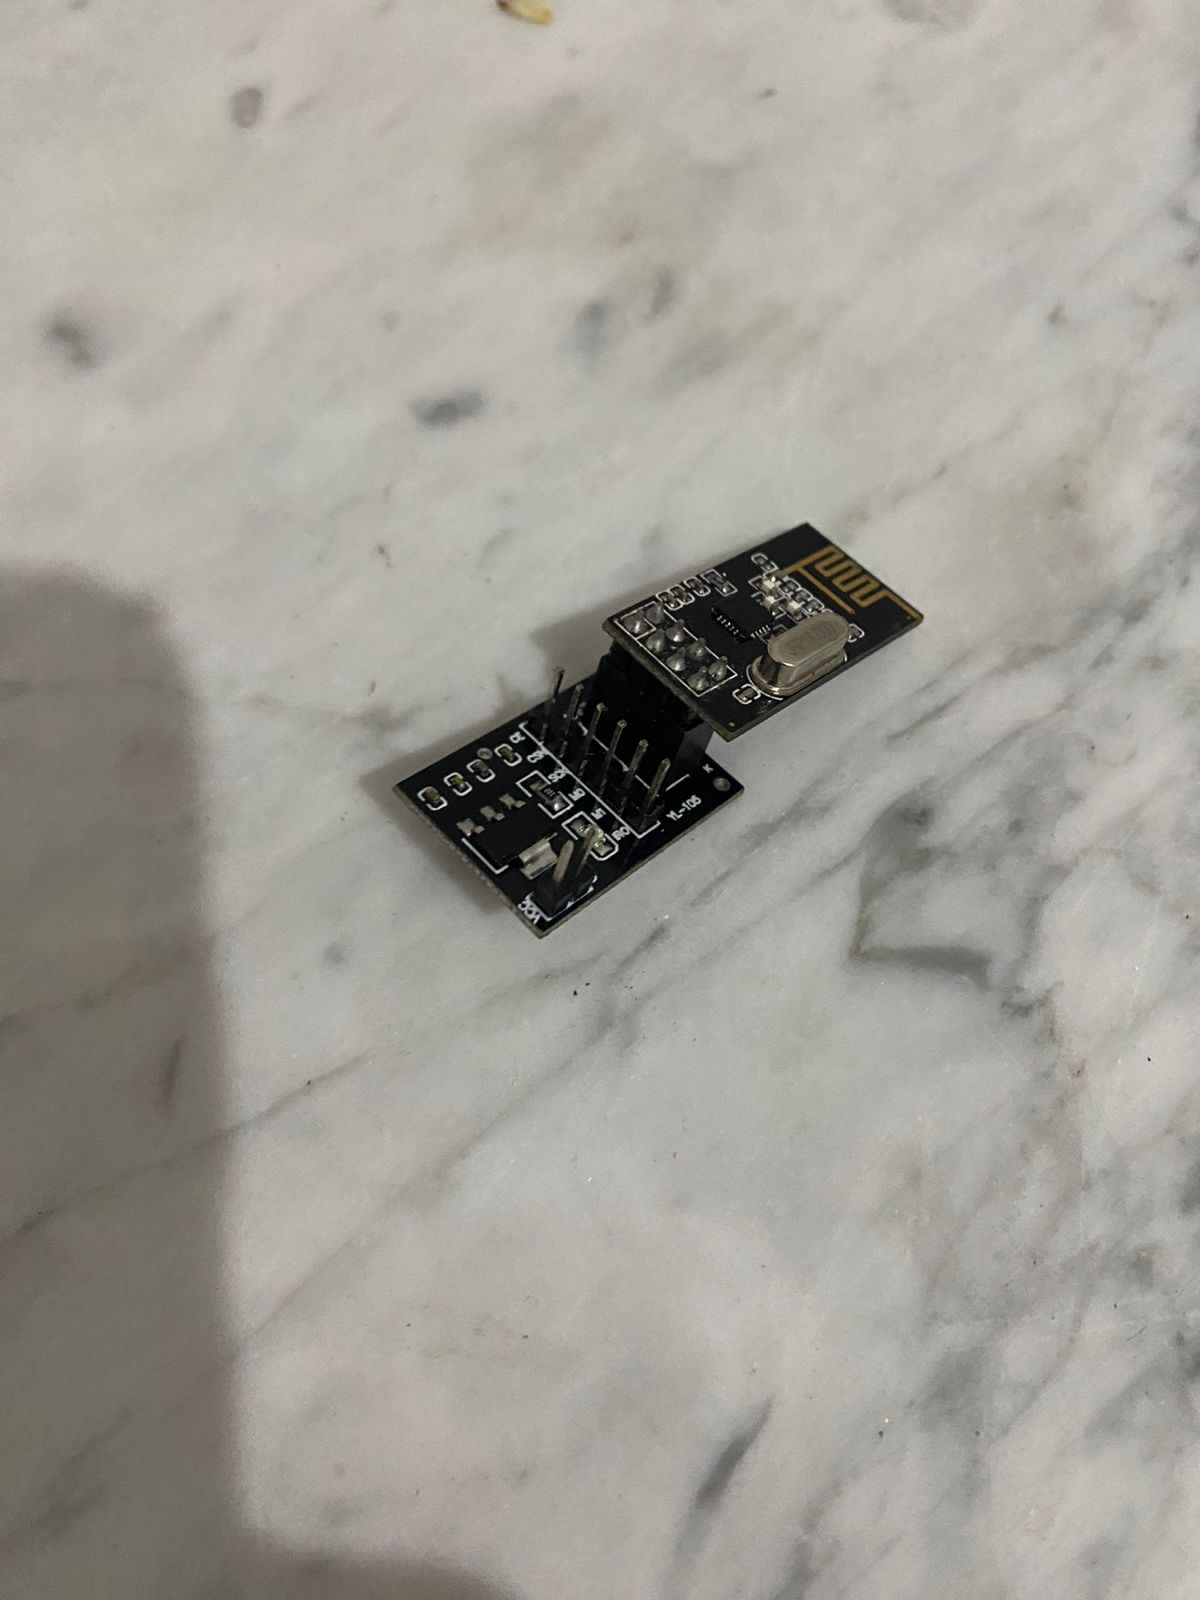RF-module: (384, 510, 937, 947)
